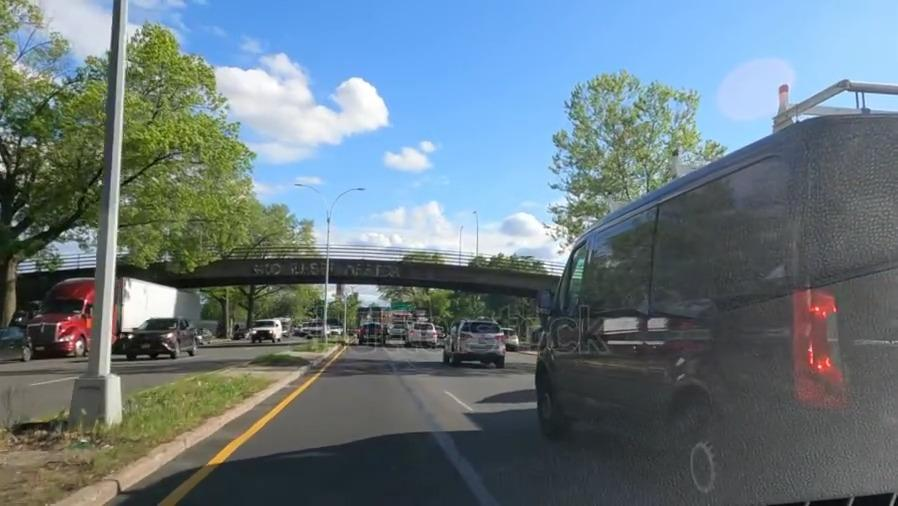car: (442, 321, 505, 364), (135, 319, 201, 355), (0, 323, 27, 359), (405, 322, 435, 349), (357, 322, 382, 346)
truck: (37, 280, 192, 348)
van: (554, 97, 894, 479), (249, 318, 281, 342), (501, 325, 521, 347)
wheel: (656, 397, 743, 503), (525, 370, 563, 431)
